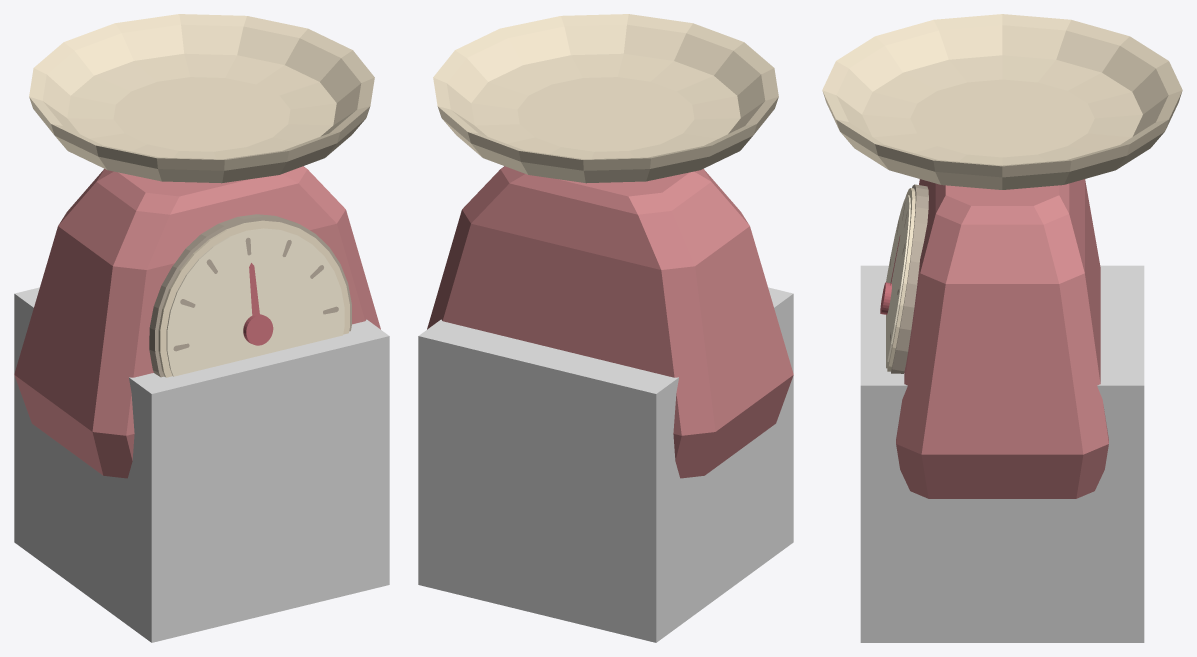
File: 01-kitchen-scale.glb
3 renders of one model, left to right at view 1: azimuth 30°, elevation 25°; view 2: azimuth 150°, elevation 25°; view 3: azimuth 270°, elevation 25°, orthographic. The views are drawn at different scales.
Parts seen in each view (by area): view 1: 01 Faceted rose housing, Cube; view 2: 01 Faceted rose housing, Cube; view 3: 01 Faceted rose housing, Cube.
Boxes of the visible parts, x1,y1,x2,y2 form: 01 Faceted rose housing: (14, 14, 380, 478); Cube: (14, 287, 389, 642); 01 Faceted rose housing: (427, 14, 793, 478); Cube: (418, 287, 793, 642); 01 Faceted rose housing: (822, 14, 1182, 498); Cube: (860, 265, 1144, 642).
Size of the model in its own units: 2.54 by 3.83 by 2.54.
